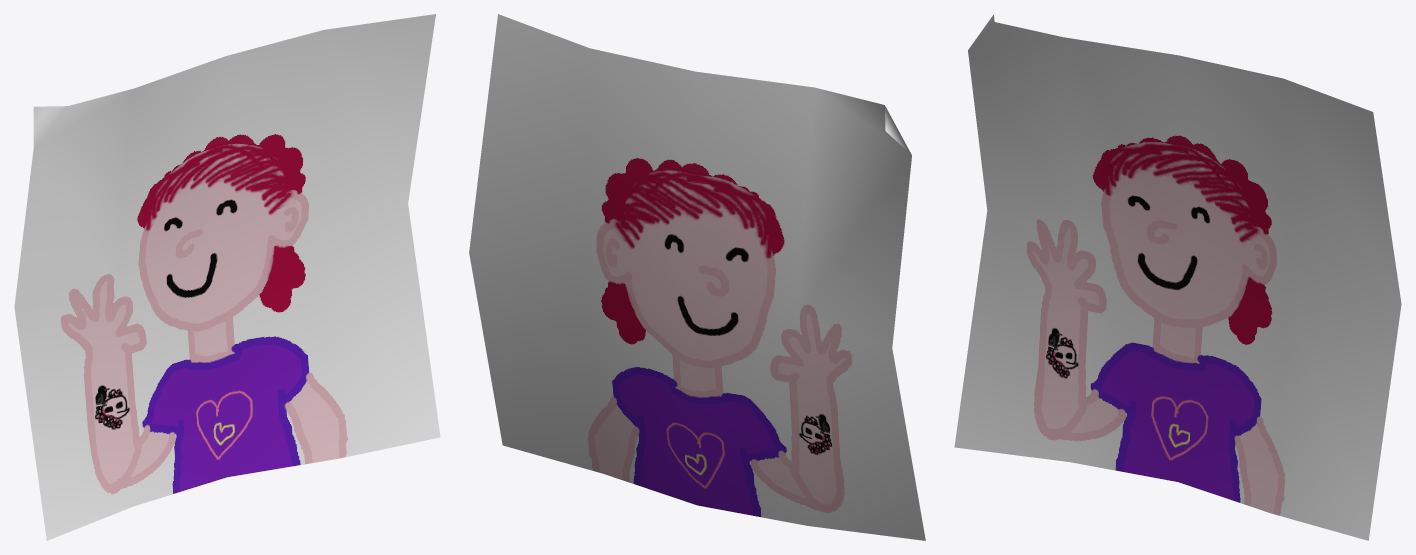
File: goonie.gltf
3 views of the same model, side by side, from view 1: azimuth 30°, elevation 25°; view 2: azimuth 150°, elevation 25°; view 3: azimuth 330°, elevation 25° (orthographic). The views are drawn at different scales.
Parts seen in each view (by area): view 1: Plane; view 2: Plane; view 3: Plane.
Boxes of the visible parts, bbox=[...] form: Plane: bbox=[14, 14, 440, 540]; Plane: bbox=[469, 14, 925, 540]; Plane: bbox=[954, 14, 1401, 540].
Size of the model in its own units: 0.6274 by 0.6298 by 0.1085.
1 material, 1 textured.
